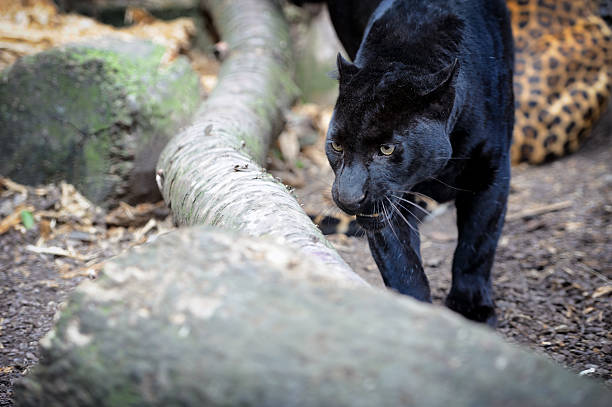panther: (309, 44, 475, 250)
